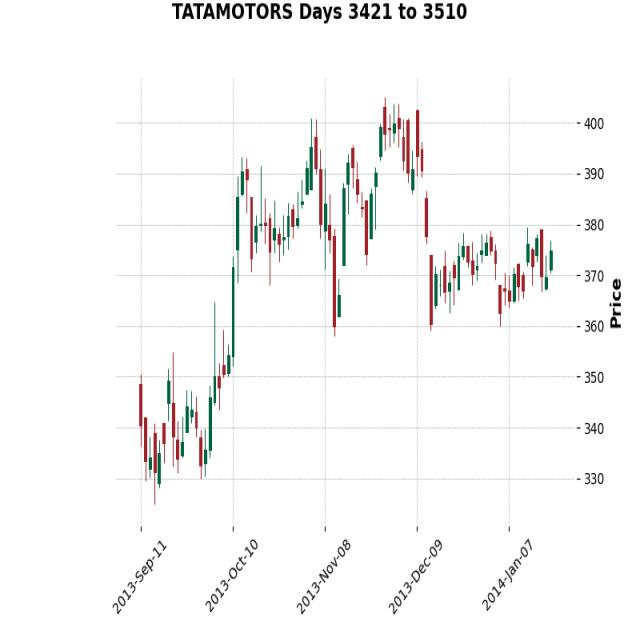Head and Shoulder: (213, 92, 397, 363)
